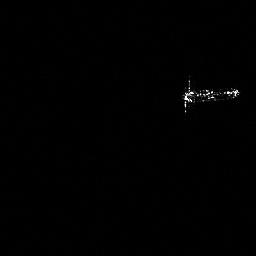ship: (182, 79, 241, 115)
